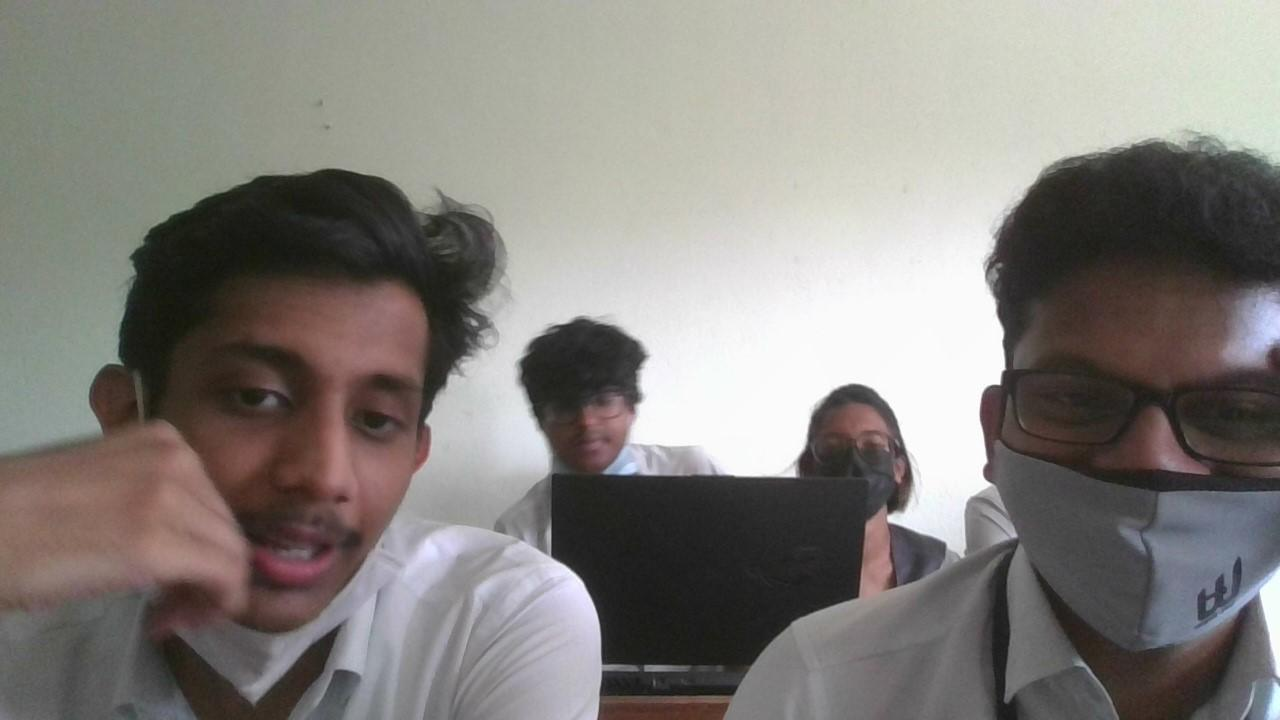nohelmet: (93, 170, 473, 633), (979, 141, 1280, 654), (522, 318, 644, 478), (804, 385, 914, 524)
